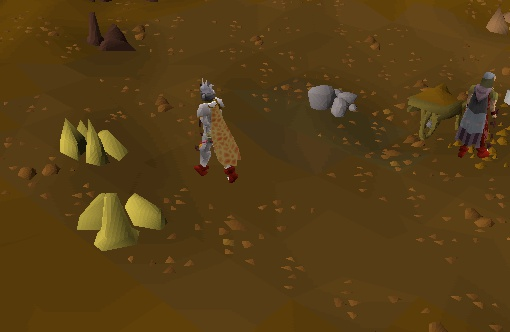gold: (61, 180, 182, 260), (31, 102, 152, 182)
iron: (79, 6, 143, 59)
